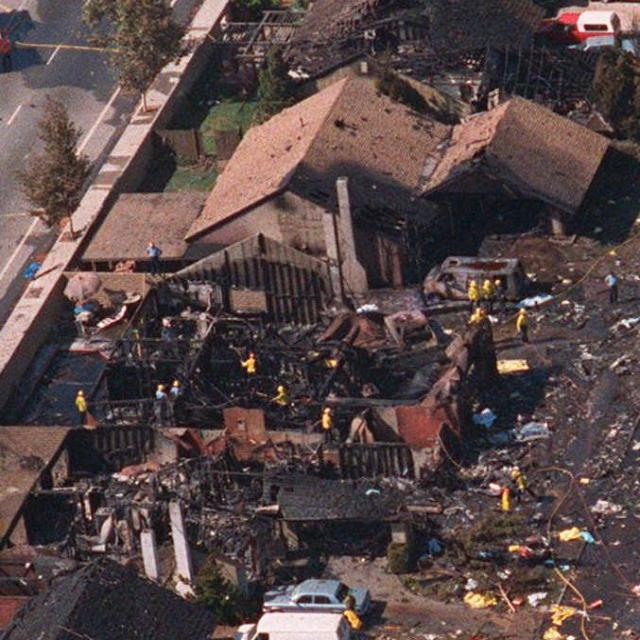collapsed_building: (223, 98, 598, 307), (72, 280, 474, 430), (62, 438, 422, 599)
